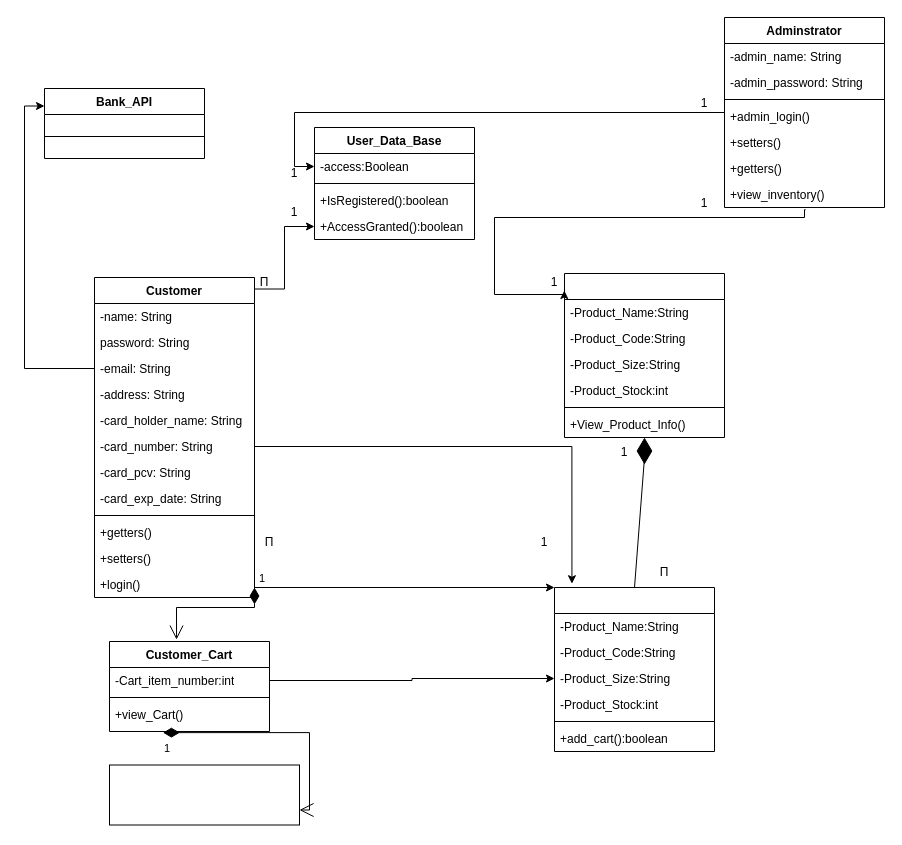
Some shapes in this 902 by 845 pixel diagram are drawn without their labels. Here are the shapes that lost their labels. From the top down, the box of each, then its label:
(564, 272, 724, 438): Inventory
(554, 586, 714, 752): User_interface
(108, 764, 300, 825): 10min_Timer_for_add_product
